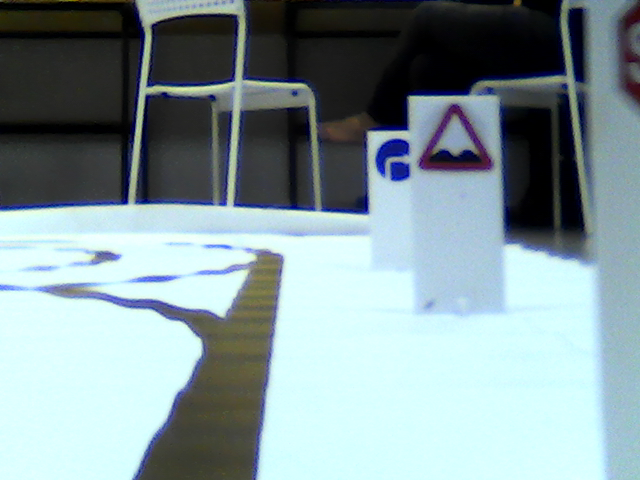Nerov: (416, 104, 495, 174)
Right: (373, 136, 411, 182)
